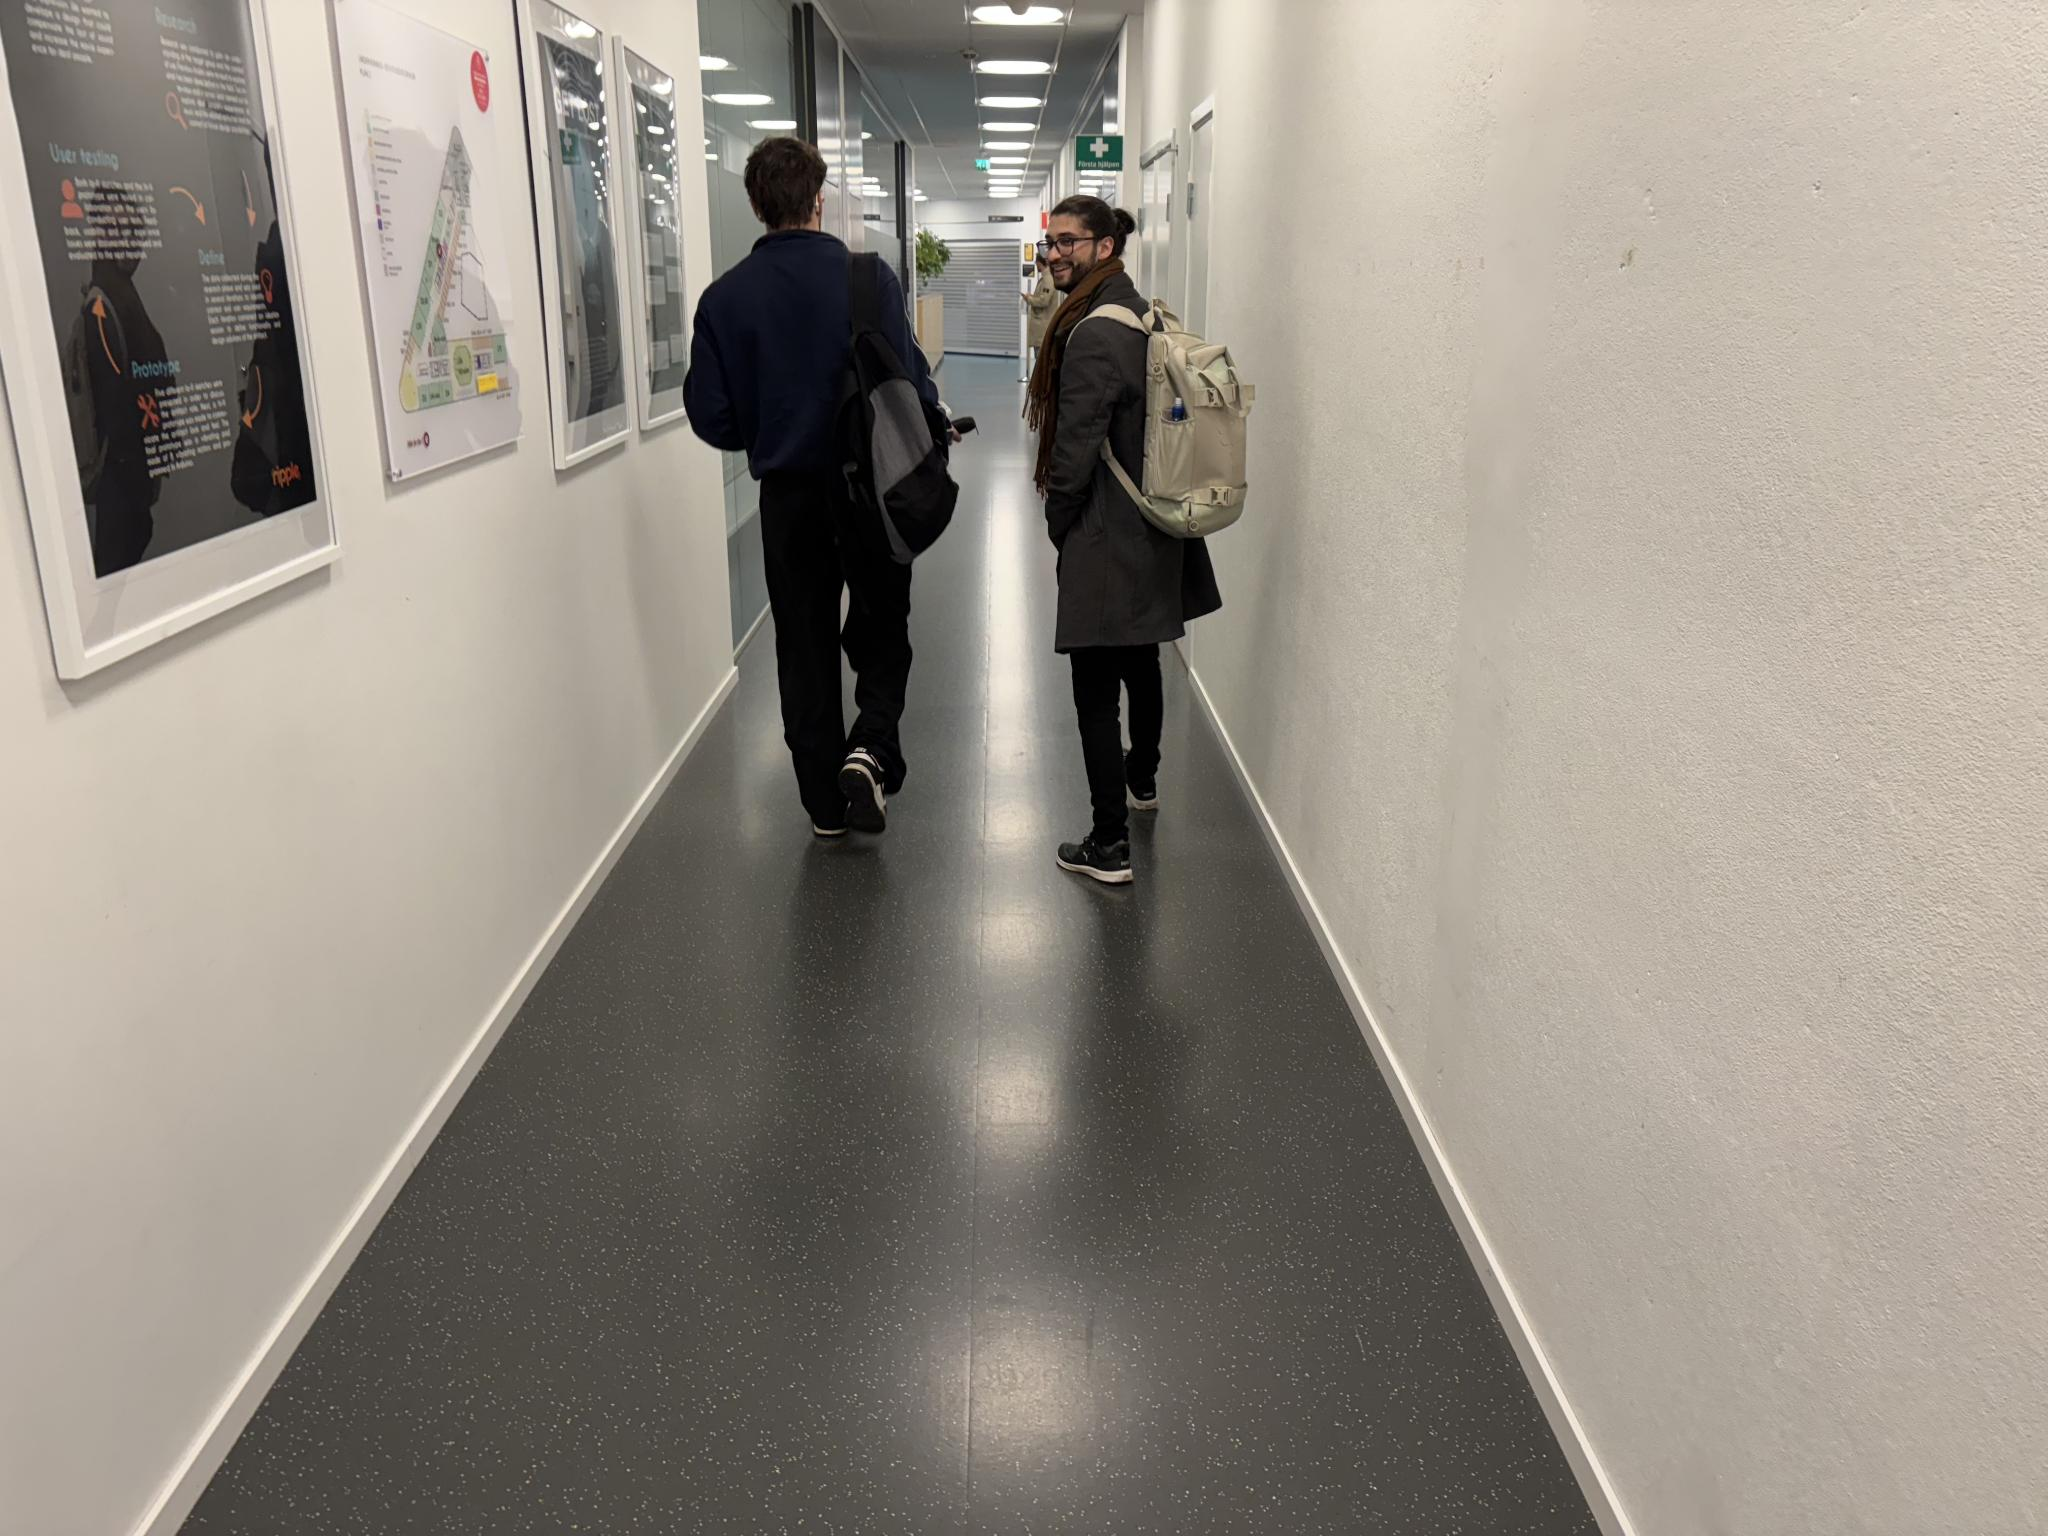person: (719, 135, 932, 837), (1018, 194, 1193, 866), (975, 157, 992, 170)
